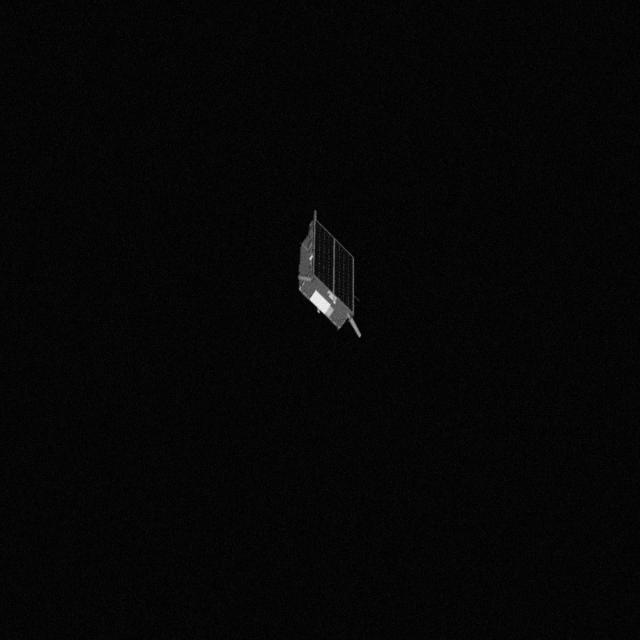medium_debris: (290, 208, 366, 336)
